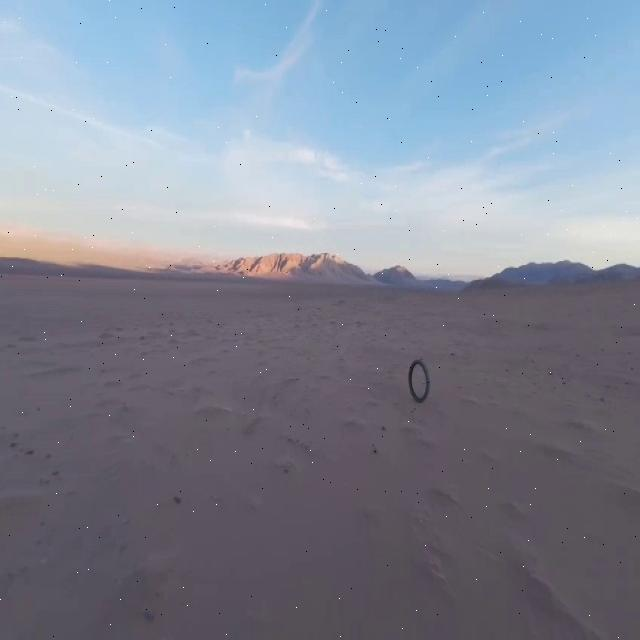Tire: (408, 359, 429, 402)
